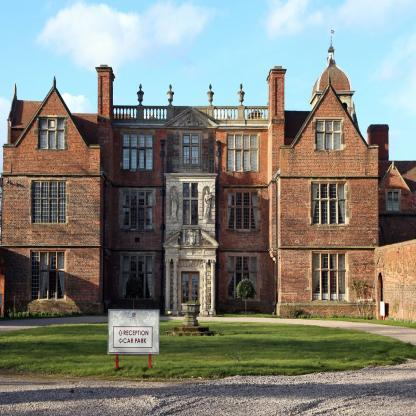Balcony: (167, 157, 215, 173)
Building Outline: (1, 65, 379, 318)
Cornice: (167, 110, 214, 126)
Deco: (203, 190, 213, 223), (170, 189, 179, 222), (182, 229, 199, 246)
Dont: (108, 309, 159, 354), (181, 300, 201, 326)
Door: (181, 271, 200, 316)
Facade: (7, 135, 362, 318)
Floor: (2, 178, 378, 241)
Floor Slab: (2, 241, 378, 246), (2, 174, 378, 179)
Ground Floor: (2, 246, 378, 317)
Pillar: (172, 259, 179, 314), (165, 259, 171, 314), (210, 259, 216, 314), (202, 259, 208, 314)
Roof: (11, 100, 43, 128), (71, 113, 98, 145), (284, 110, 312, 137)
Top Floor: (8, 119, 356, 173)
Window: (312, 252, 347, 301), (30, 252, 65, 300), (312, 182, 347, 225), (32, 180, 66, 224), (122, 256, 153, 299), (227, 257, 258, 300), (122, 132, 153, 171), (227, 133, 258, 172), (123, 191, 154, 229), (227, 192, 258, 230), (39, 117, 65, 149), (316, 119, 341, 151), (183, 182, 199, 227), (183, 134, 200, 166)
